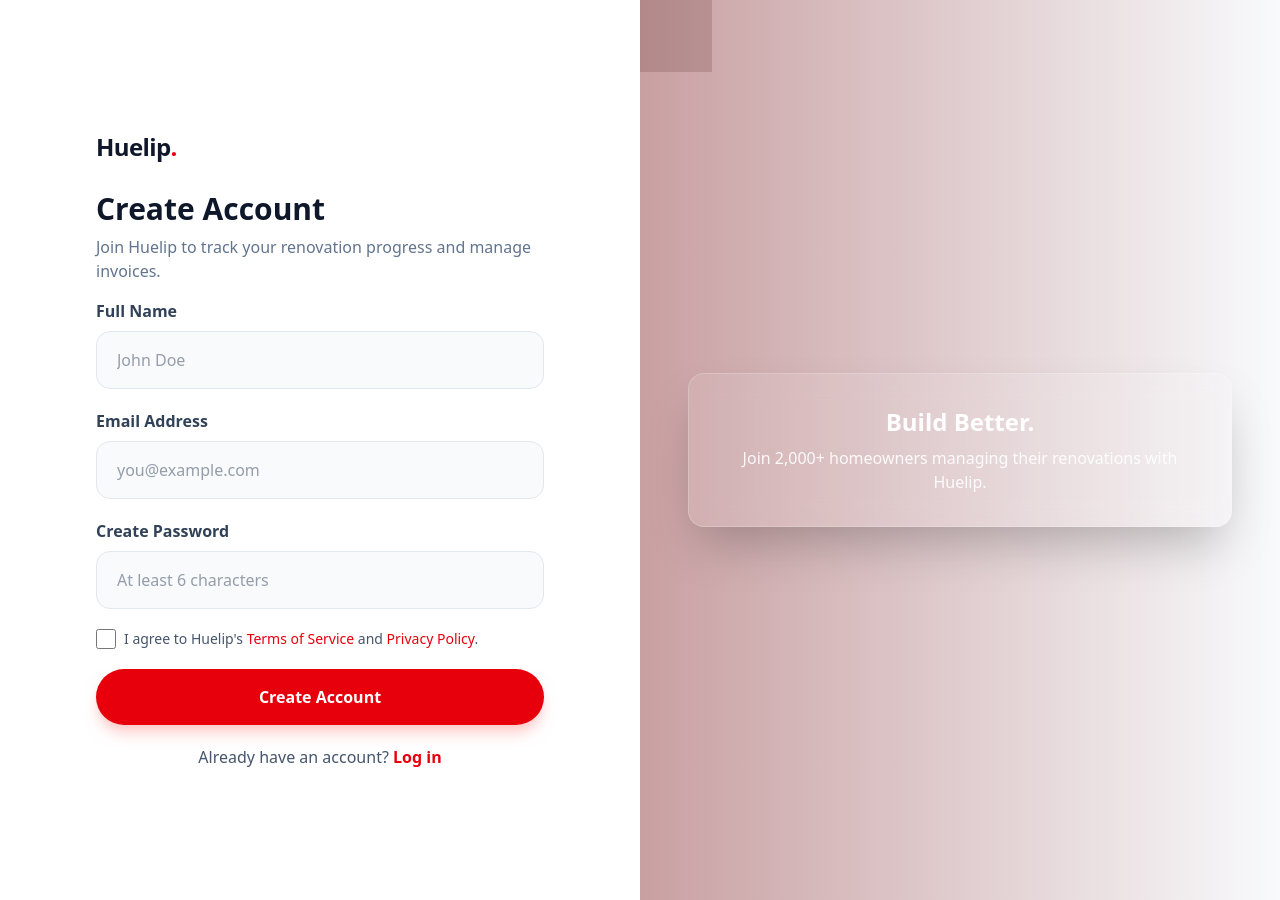
Signup Page › Form Validation › should show error when password is too short
The image size is (1280, 900).
Note: Type short password and blur
Type "123" into the password field labelled "Create Password" at (320, 580), box [96, 551, 544, 609]
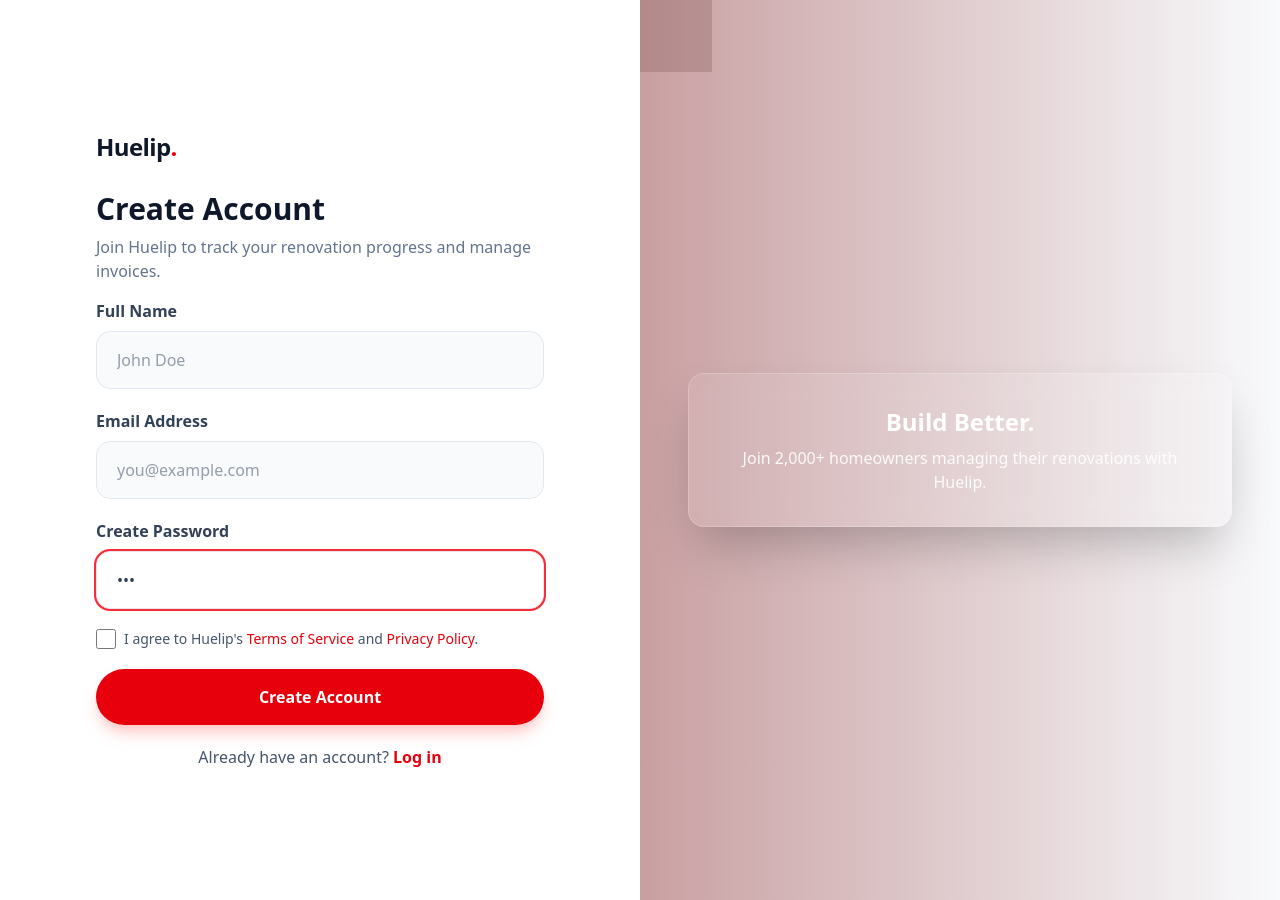
Press Tab
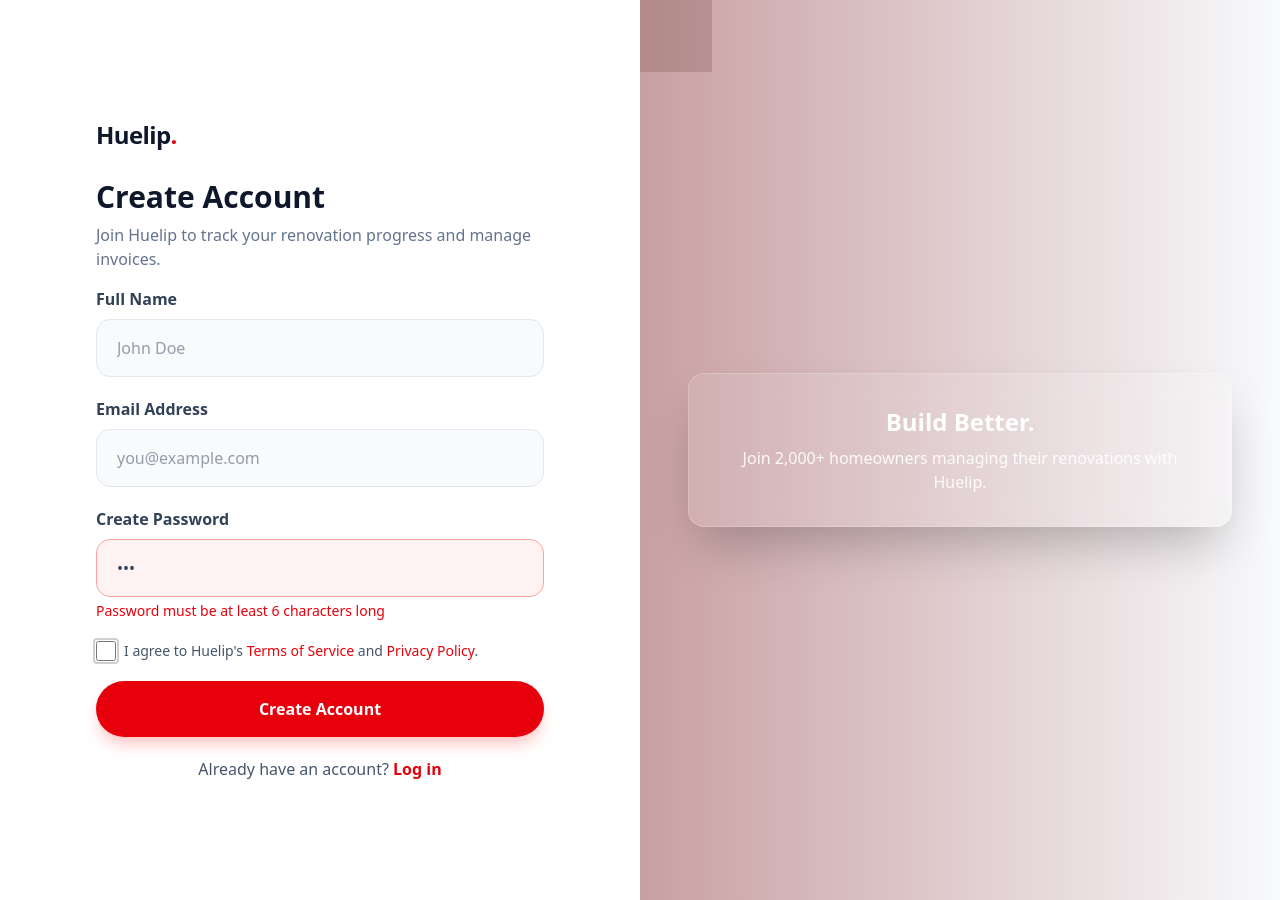
Expected: the text "Password must be at least 6 characters long" is shown, [96, 601, 385, 620]
